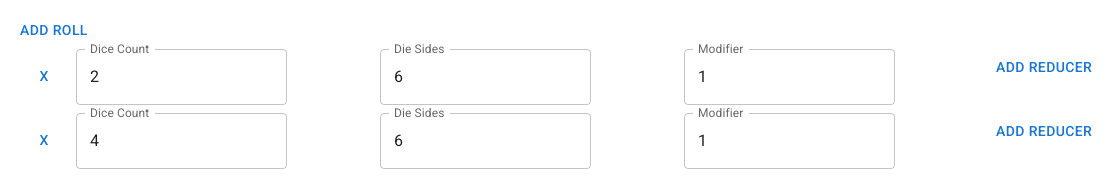
Test case: Tests w/ initial sets › Can remove set
The image size is (1109, 186).
Click the button with test id "rollComponent-removeSet": (44, 76) top-left (12, 48), bottom-right (76, 104)
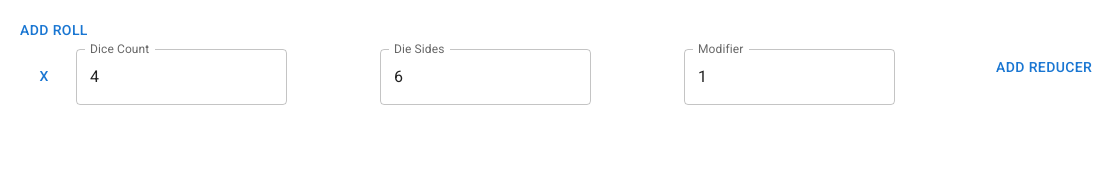
Check: the number of number fields with test id "diceSetComponent-count" is 1, box top-left (76, 48), bottom-right (287, 104)
